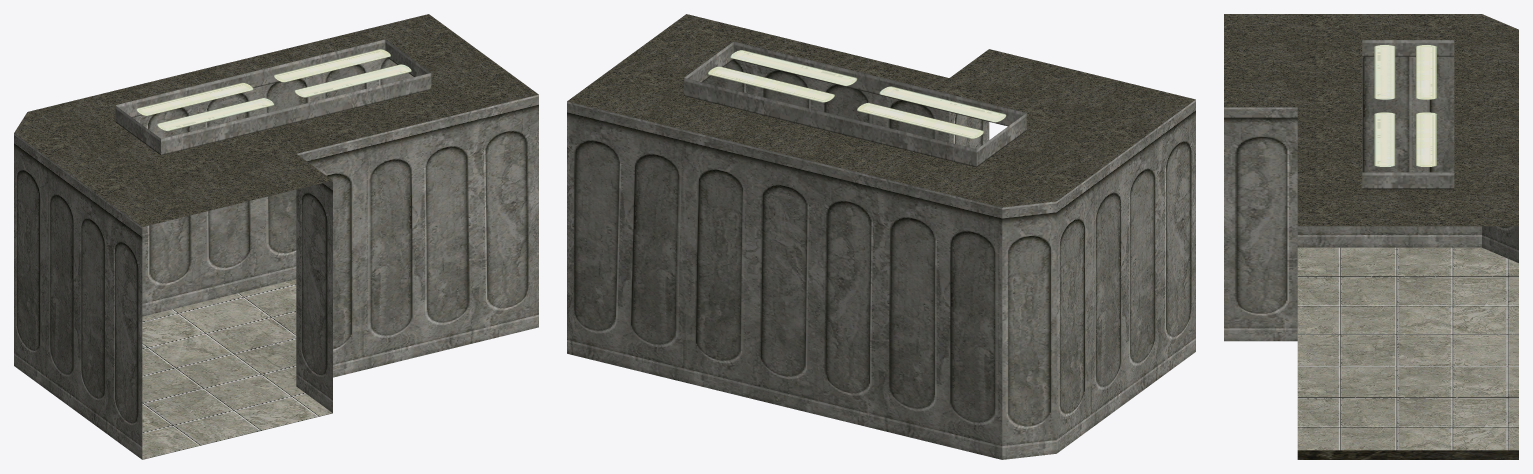
Rendered from mun_tato_guild_commerce_s01_r3_hallb_mesh_hallb.fbx.
3 views of the same model, side by side, from view 1: azimuth 30°, elevation 25°; view 2: azimuth 150°, elevation 25°; view 3: azimuth 270°, elevation 25° (orthographic). The views are drawn at different scales.
Visible parts, largest first — view 1: mesh_node; view 2: mesh_node; view 3: mesh_node.
Boxes of the visible parts, x1,y1,x2,y2 form: mesh_node: (14, 14, 538, 459); mesh_node: (567, 14, 1195, 459); mesh_node: (1224, 14, 1518, 459).
Size of the model in its own units: 6.82 by 3.75 by 4.
